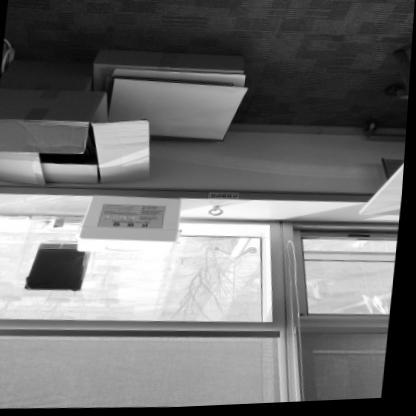DDL: (78, 192, 186, 260)
